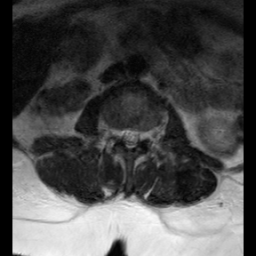CCS_normal: (127, 122, 133, 158)
LFS_normal: (140, 122, 149, 146)
LLS_normal: (133, 124, 140, 152)
RFS_normal: (113, 121, 120, 149)
RLS_normal: (120, 121, 127, 152)
